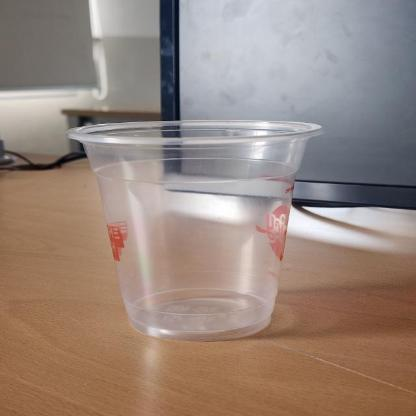Plastic Cup: (66, 118, 326, 342)
